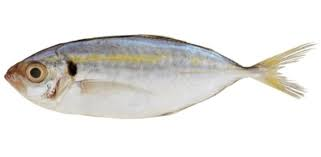Ikan Selar: (4, 37, 308, 118)
